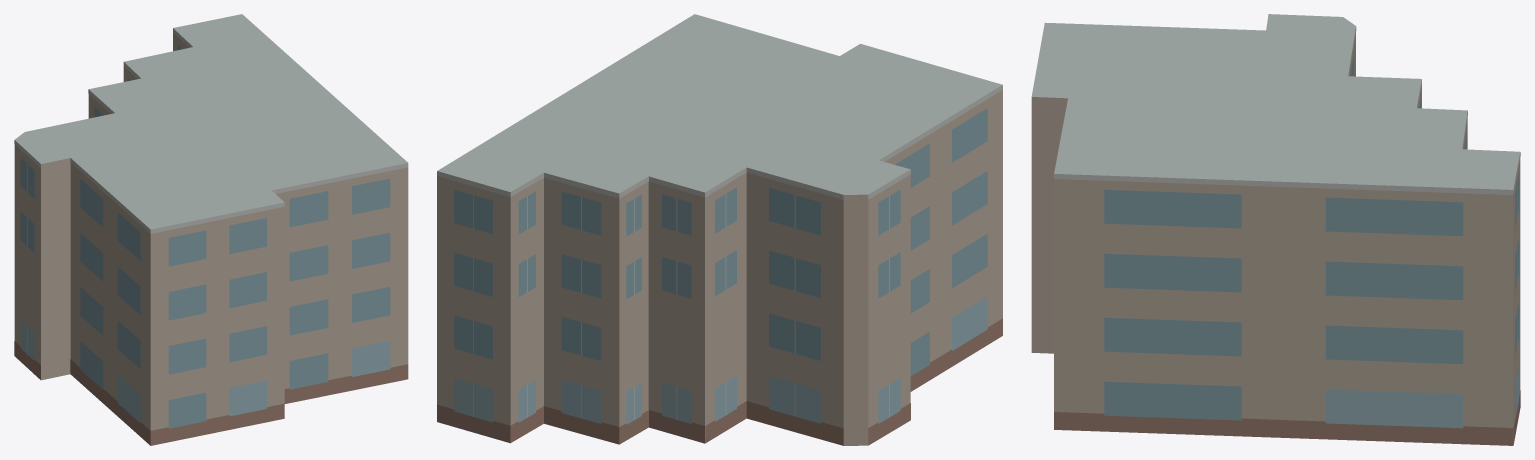
The model's file is survey-upis-33012641.glb.
3 views of the same model, side by side, from view 1: azimuth 30°, elevation 25°; view 2: azimuth 150°, elevation 25°; view 3: azimuth 270°, elevation 25° (orthographic). The views are drawn at different scales.
Parts seen in each view (by area): view 1: survey-upis-33012641.tmp; view 2: survey-upis-33012641.tmp; view 3: survey-upis-33012641.tmp.
Boxes of the visible parts, x1,y1,x2,y2 form: survey-upis-33012641.tmp: (14,14,408,445); survey-upis-33012641.tmp: (437,14,1002,445); survey-upis-33012641.tmp: (1031,14,1520,445).
Size of the model in its own units: 17.92 by 12.15 by 21.04.
